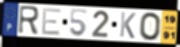2: (91, 9, 112, 39)
5: (70, 8, 89, 39)
E: (41, 8, 63, 37)
K: (118, 11, 137, 40)
O: (139, 11, 163, 42)
R: (16, 5, 40, 36)
